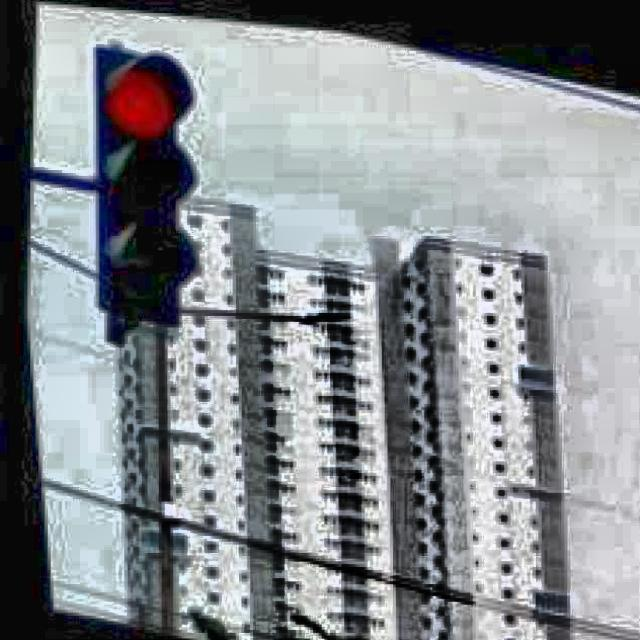red: (103, 48, 180, 329)
